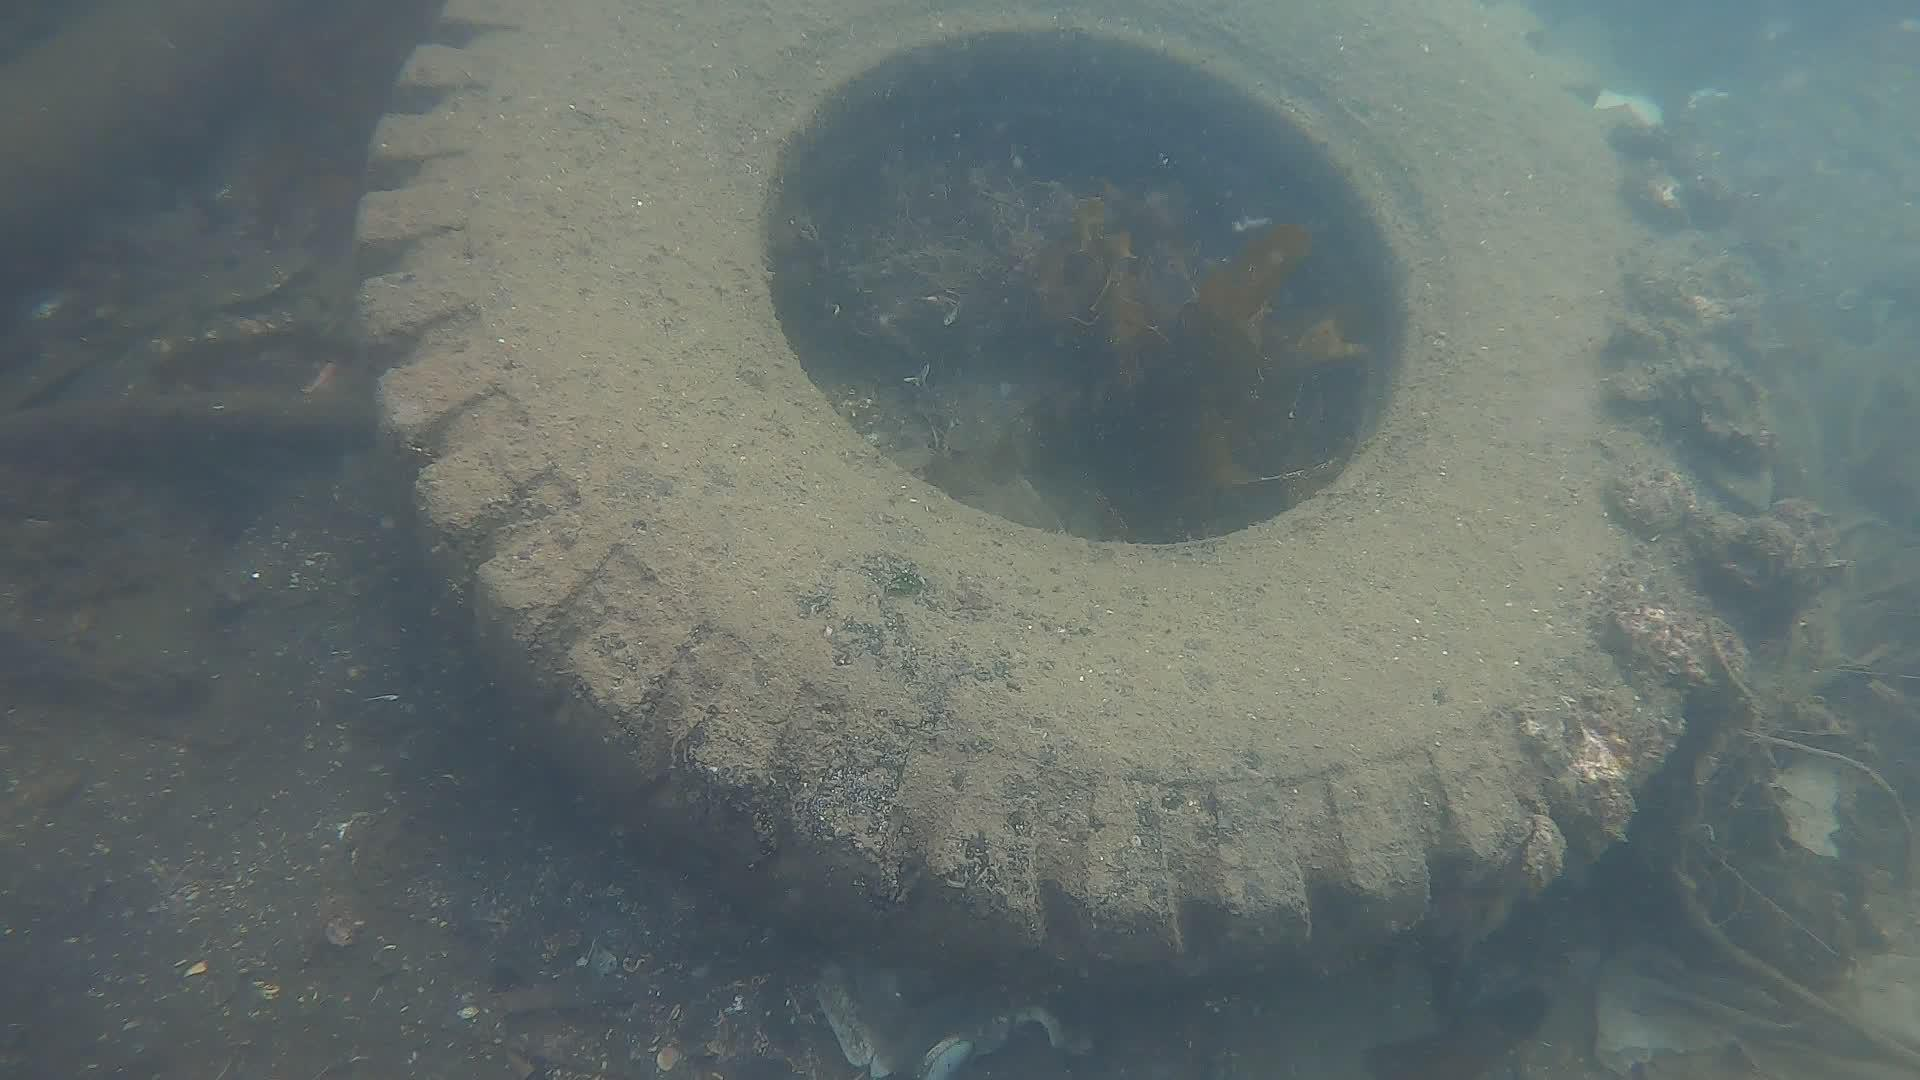tire: (356, 0, 1609, 997)
